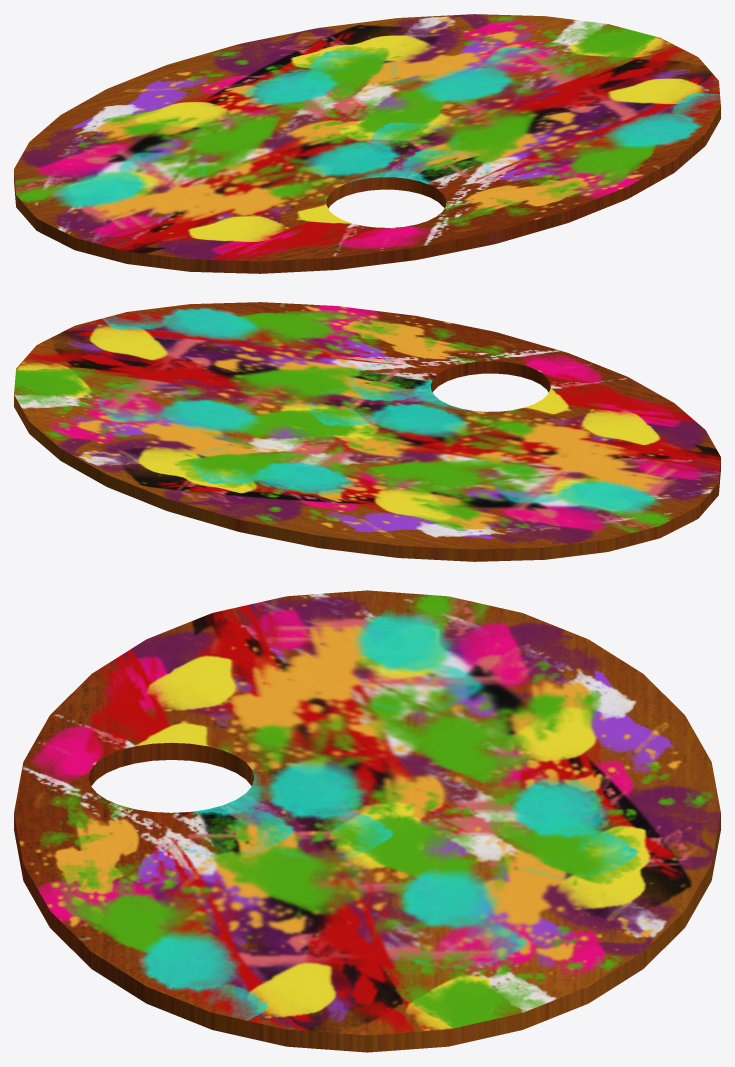
Rendered from palette.FBX.
The picture shows the model from 3 angles, top to bottom: view 1: azimuth 30°, elevation 25°; view 2: azimuth 150°, elevation 25°; view 3: azimuth 270°, elevation 25°; orthographic projection. The views are drawn at different scales.
Parts seen in each view (by area): view 1: Circle001; view 2: Circle001; view 3: Circle001.
Boxes of the visible parts, x1,y1,x2,y2 form: Circle001: [14, 14, 720, 273]; Circle001: [14, 302, 720, 561]; Circle001: [14, 590, 720, 1052].
Bounding box in the file's own units: 112 × 2 × 75.04.
